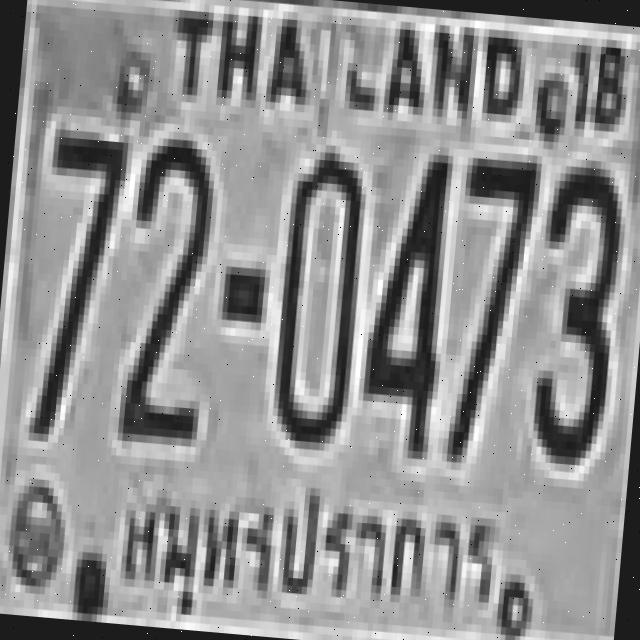0: (265, 142, 365, 444)
2: (115, 133, 215, 434)
3: (523, 156, 623, 458)
4: (354, 142, 454, 452)
7: (27, 124, 126, 434), (442, 149, 537, 459)
SamutPrakan: (109, 464, 513, 640)
